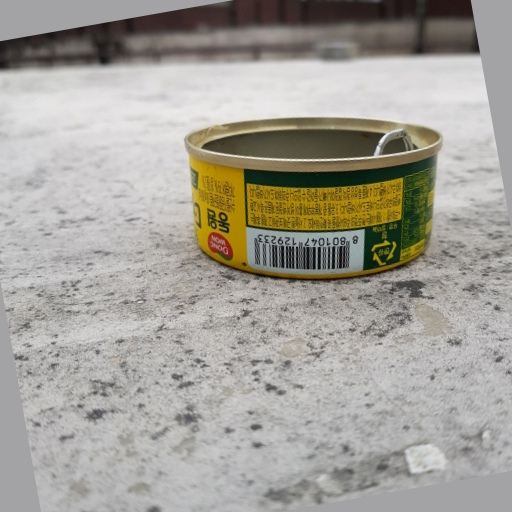Metal_1: (179, 115, 445, 278)
